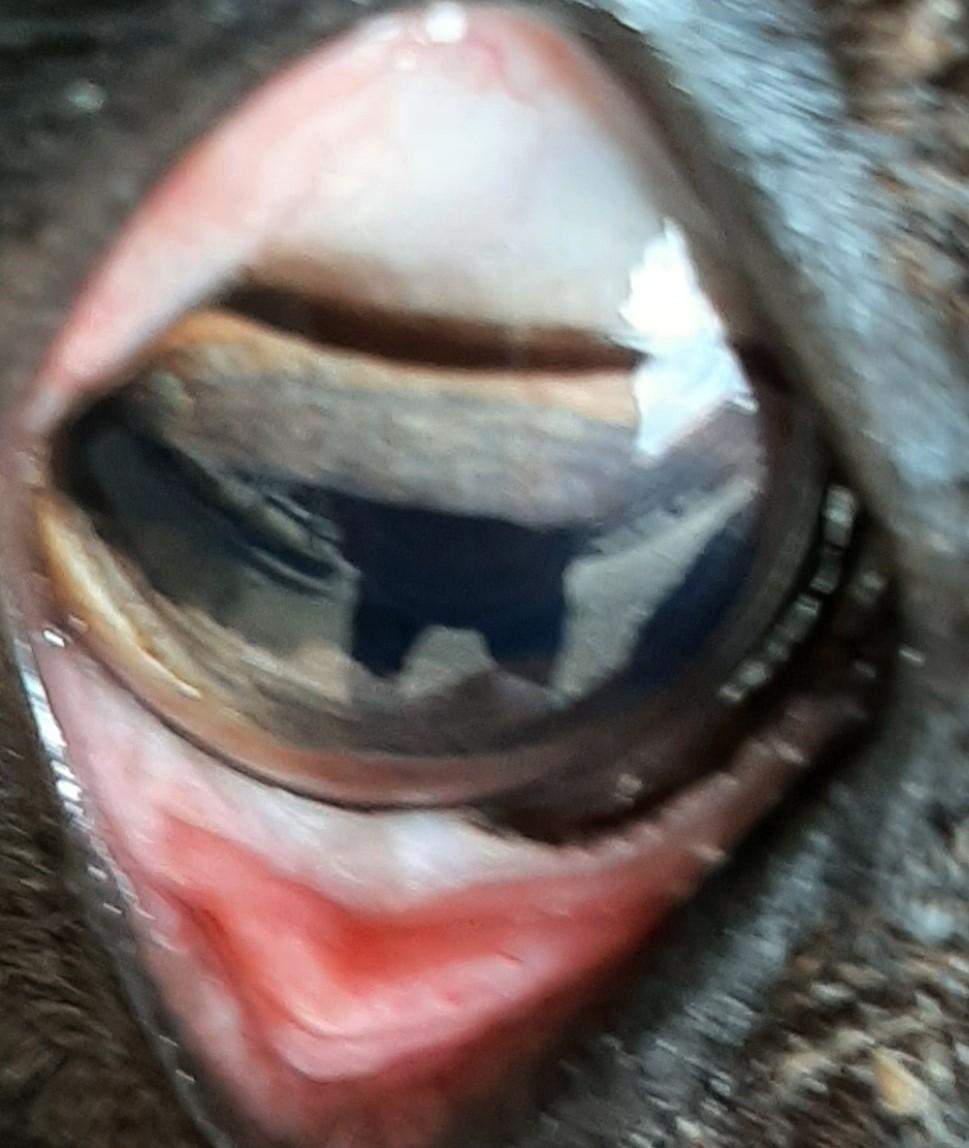eye_membrane: (34, 644, 865, 1148)
